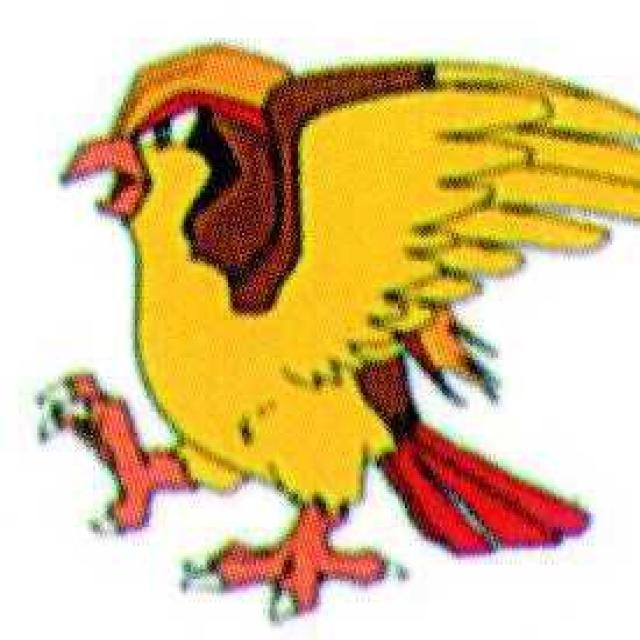Pidgeot: (67, 52, 597, 598)
